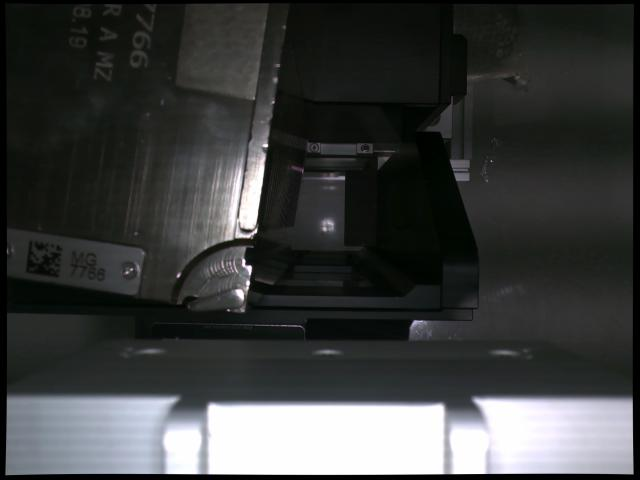jig_latch: (188, 289, 246, 311)
